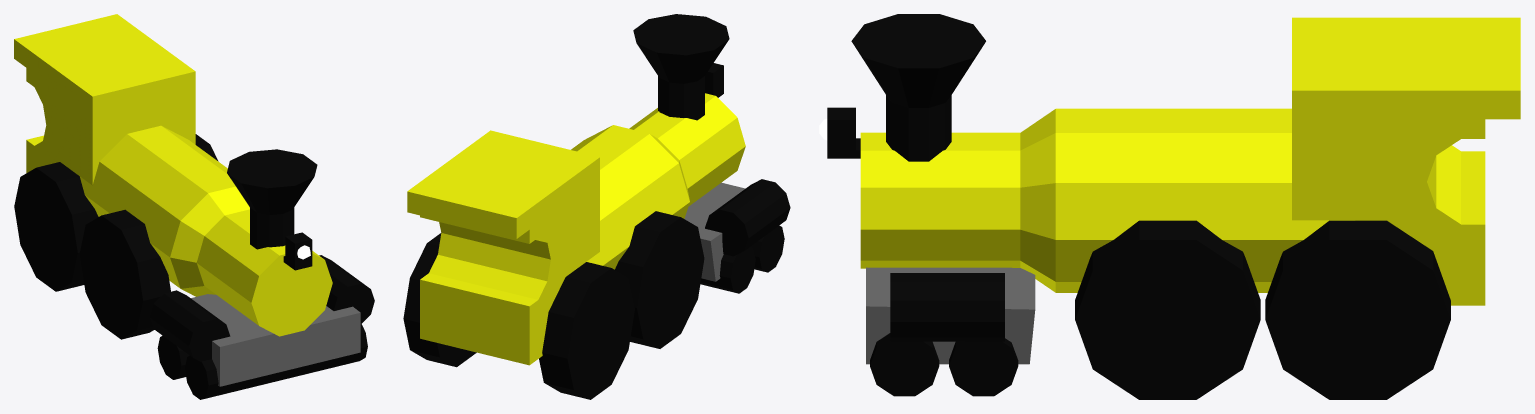
File: American.glb
The picture shows the model from 3 angles, left to right: view 1: azimuth 30°, elevation 25°; view 2: azimuth 150°, elevation 25°; view 3: azimuth 270°, elevation 25°; orthographic projection. The views are drawn at different scales.
Visible parts, largest first — view 1: American; view 2: American; view 3: American.
Part boxes in pixels (x1=…): American: x1=14, y1=14, x2=374, y2=399; American: x1=403, y1=14, x2=790, y2=399; American: x1=819, y1=14, x2=1520, y2=399.
Bounding box in the file's own units: 2.64 × 2.82 × 5.92.
